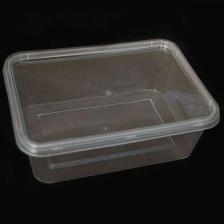plastic_box: (0, 29, 224, 187)
